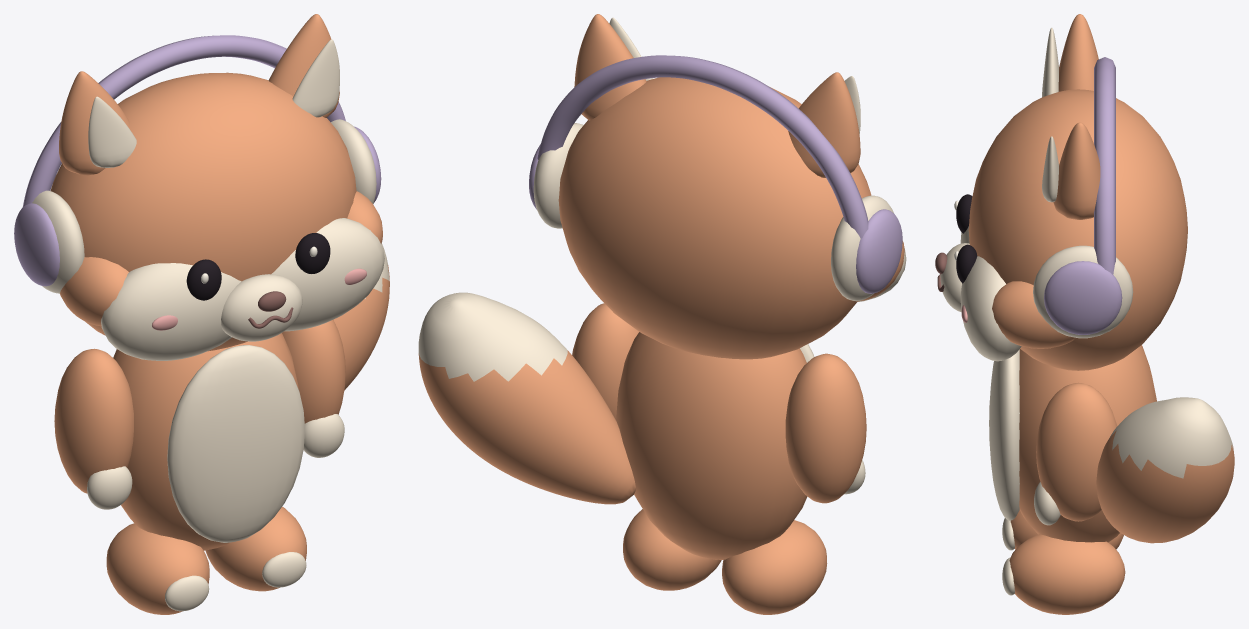
Rendered from peach-fox.glb.
The picture shows the model from 3 angles, left to right: view 1: azimuth 30°, elevation 25°; view 2: azimuth 150°, elevation 25°; view 3: azimuth 270°, elevation 25°; orthographic projection. The views are drawn at different scales.
Parts seen in each view (by area): view 1: Broad chibi head, Ivory bib, Pear-shaped body, Cream cheek.001, Soft sleeve.001, Cream cheek, Rounded foot.001, Padded headphone band, Soft sleeve, Rounded foot, Muzzle, Tapered fox ear (+15 smaller); view 2: Broad chibi head, Pear-shaped body, Curved plush tail, Padded headphone band, Soft sleeve.001, Rounded foot.001, Rounded foot, Soft sleeve, Tapered fox ear, Tapered fox ear.001, Headphone cup.001, Headphone cushion.001 (+1 smaller); view 3: Broad chibi head, Curved plush tail, Pear-shaped body, Soft sleeve, Rounded foot, Headphone cup, Ivory bib, Padded headphone band, Cream cheek, Tapered fox ear.001, Cheek tuft, Headphone cushion (+8 smaller).
Part boxes in pixels (x1=…): Broad chibi head: x1=50, y1=72, x2=356, y2=351; Ivory bib: x1=167, y1=345, x2=304, y2=542; Pear-shaped body: x1=113, y1=333, x2=298, y2=550; Cream cheek.001: x1=101, y1=263, x2=241, y2=360; Soft sleeve.001: x1=54, y1=348, x2=133, y2=493; Cream cheek: x1=271, y1=218, x2=384, y2=331; Rounded foot.001: x1=106, y1=523, x2=209, y2=614; Padded headphone band: x1=23, y1=35, x2=345, y2=206; Soft sleeve: x1=282, y1=319, x2=345, y2=423; Rounded foot: x1=205, y1=506, x2=306, y2=591; Muzzle: x1=221, y1=274, x2=302, y2=341; Tapered fox ear: x1=59, y1=71, x2=129, y2=175; Broad chibi head: x1=558, y1=77, x2=871, y2=359; Pear-shaped body: x1=616, y1=332, x2=807, y2=559; Curved plush tail: x1=418, y1=292, x2=636, y2=504; Padded headphone band: x1=537, y1=55, x2=868, y2=238; Soft sleeve.001: x1=785, y1=353, x2=866, y2=503; Rounded foot.001: x1=722, y1=520, x2=827, y2=614; Rounded foot: x1=623, y1=509, x2=721, y2=590; Soft sleeve: x1=572, y1=303, x2=638, y2=419; Tapered fox ear: x1=788, y1=72, x2=860, y2=177; Tapered fox ear.001: x1=574, y1=14, x2=646, y2=120; Headphone cup.001: x1=856, y1=209, x2=902, y2=293; Headphone cushion.001: x1=831, y1=195, x2=893, y2=301; Broad chibi head: x1=968, y1=89, x2=1187, y2=370; Curved plush tail: x1=1096, y1=397, x2=1234, y2=543; Pear-shaped body: x1=1019, y1=345, x2=1156, y2=542; Soft sleeve: x1=1036, y1=382, x2=1117, y2=521; Rounded foot: x1=1009, y1=534, x2=1125, y2=614; Headphone cup: x1=1044, y1=261, x2=1122, y2=334; Ivory bib: x1=989, y1=349, x2=1019, y2=520; Padded headphone band: x1=1094, y1=57, x2=1115, y2=274; Cream cheek: x1=960, y1=256, x2=1021, y2=361; Tapered fox ear.001: x1=1053, y1=122, x2=1100, y2=219; Cheek tuft: x1=992, y1=281, x2=1075, y2=348; Headphone cushion: x1=1033, y1=245, x2=1133, y2=338.
Size of the model in its own units: 1.42 by 1.83 by 0.956.
